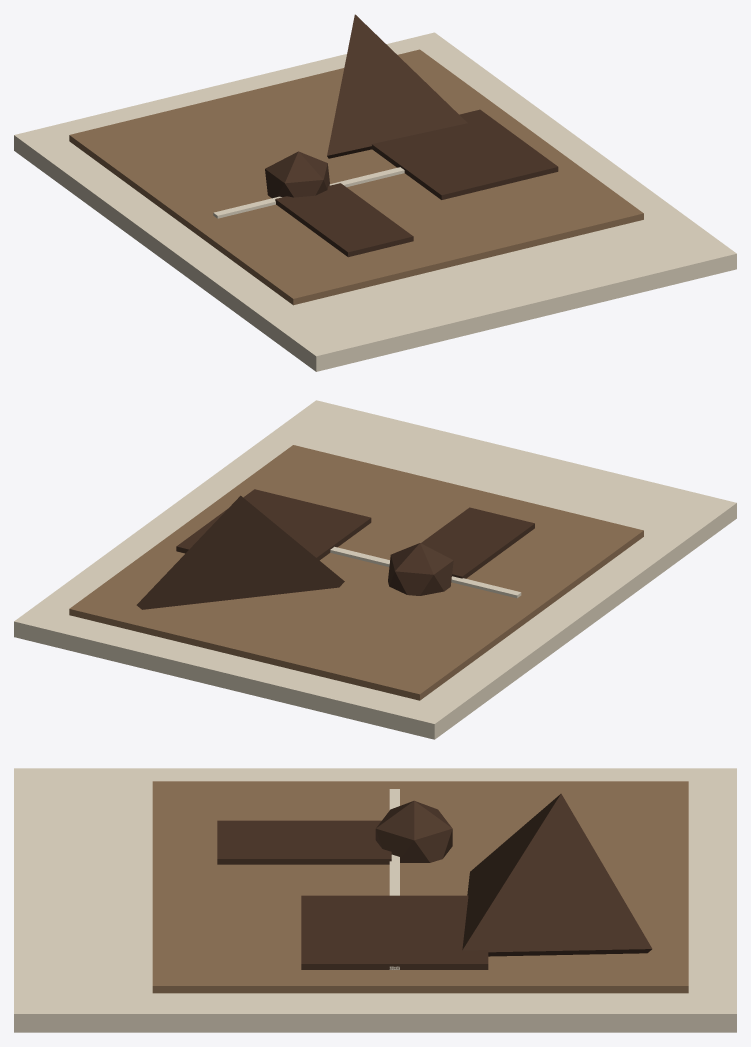
Rendered from photograph.glb.
3 renders of one model, top to bottom at view 1: azimuth 30°, elevation 25°; view 2: azimuth 150°, elevation 25°; view 3: azimuth 270°, elevation 25°, orthographic. The views are drawn at different scales.
Visible parts, largest first — view 1: PhotoImage, PhotoCard, Roof, OldHouse, PersonBody, PersonHead, Horizon; view 2: PhotoImage, PhotoCard, Roof, OldHouse, PersonBody, PersonHead, Horizon; view 3: PhotoCard, PhotoImage, Roof, OldHouse, PersonBody, PersonHead, Horizon.
Part boxes in pixels (bbox=[...]): PhotoImage: bbox=[69, 49, 643, 305]; PhotoCard: bbox=[14, 32, 736, 371]; Roof: bbox=[327, 14, 467, 158]; OldHouse: bbox=[371, 109, 558, 199]; PersonBody: bbox=[275, 183, 413, 257]; PersonHead: bbox=[265, 151, 329, 198]; Horizon: bbox=[213, 167, 404, 218]; PhotoImage: bbox=[69, 445, 643, 700]; PhotoCard: bbox=[14, 400, 736, 739]; Roof: bbox=[136, 495, 344, 609]; OldHouse: bbox=[176, 489, 371, 560]; PersonBody: bbox=[421, 507, 534, 578]; PersonHead: bbox=[388, 543, 453, 595]; Horizon: bbox=[330, 546, 521, 598]; PhotoCard: bbox=[14, 768, 736, 1032]; PhotoImage: bbox=[152, 781, 688, 993]; Roof: bbox=[462, 793, 652, 956]; OldHouse: bbox=[301, 895, 488, 969]; PersonBody: bbox=[217, 820, 391, 864]; PersonHead: bbox=[375, 800, 452, 862]; Horizon: bbox=[389, 789, 399, 969].
Bounding box in the file's own units: 4.5 × 2 × 5.6.
